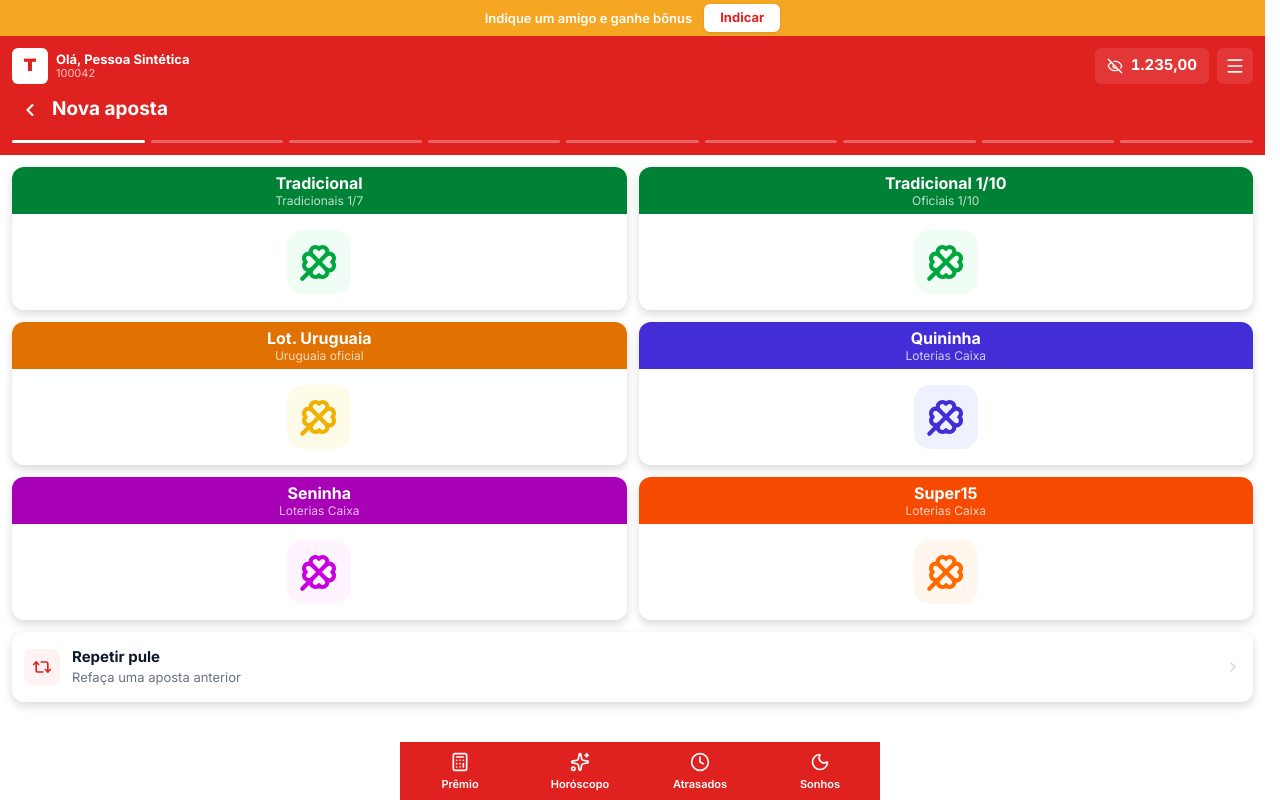
Loterias › voltar e escolher o outro jogo troca resumo e datas
The image size is (1280, 800).
Click the button "Tradicional 1/10 Oficiais 1/10" at point(946, 238), box top-left (638, 166), bottom-right (1253, 310)
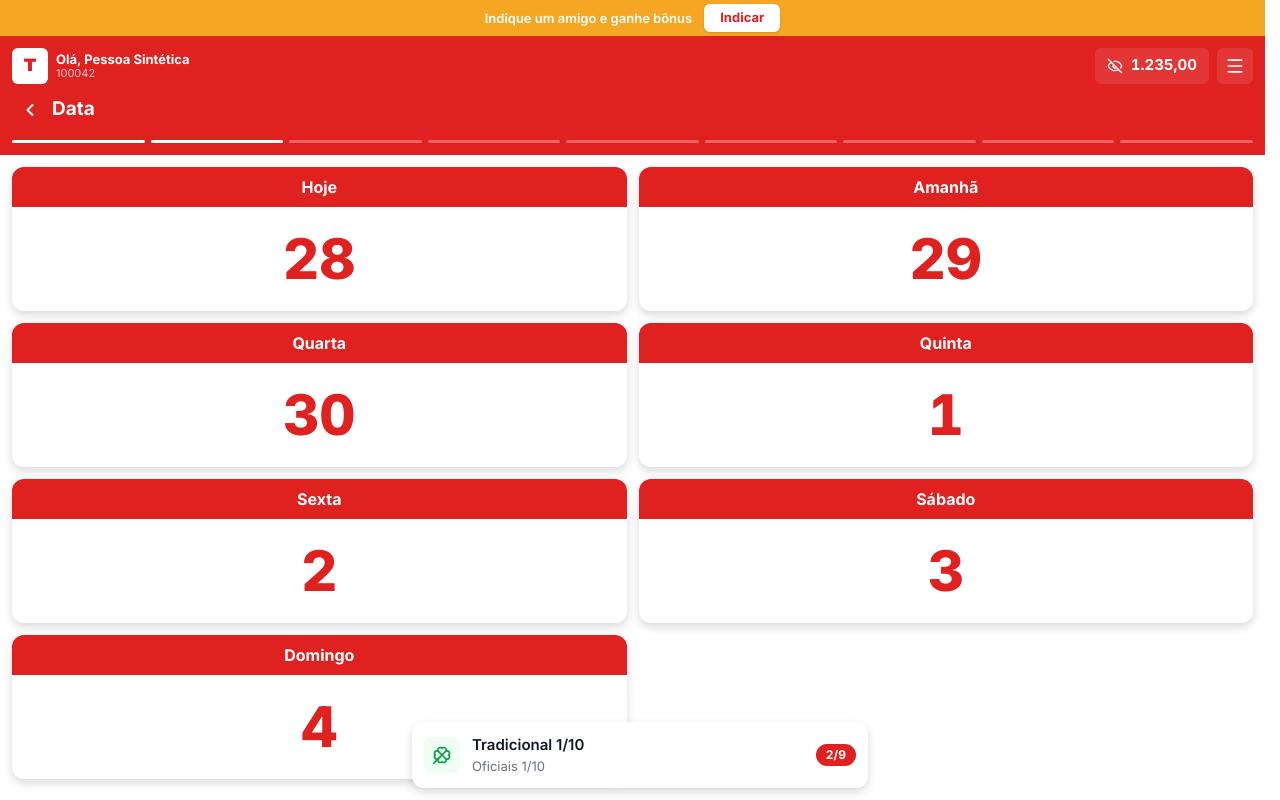
Click the button named "Voltar" at point(30, 110), box top-left (12, 92), bottom-right (48, 128)
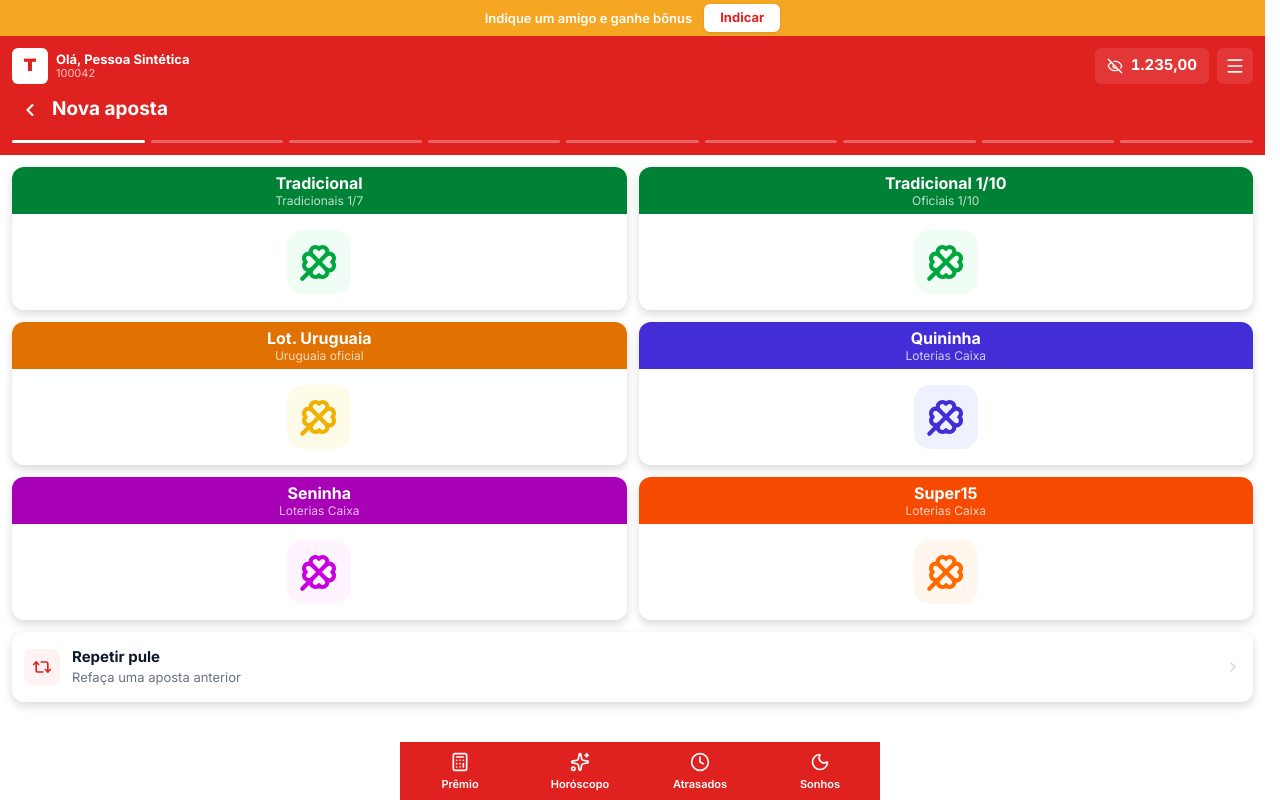
Expected: the heading reads "Nova aposta", top-left (52, 97), bottom-right (168, 120)
Click the button "Tradicional Tradicionais 1/7" at point(319, 238), box top-left (12, 166), bottom-right (626, 310)
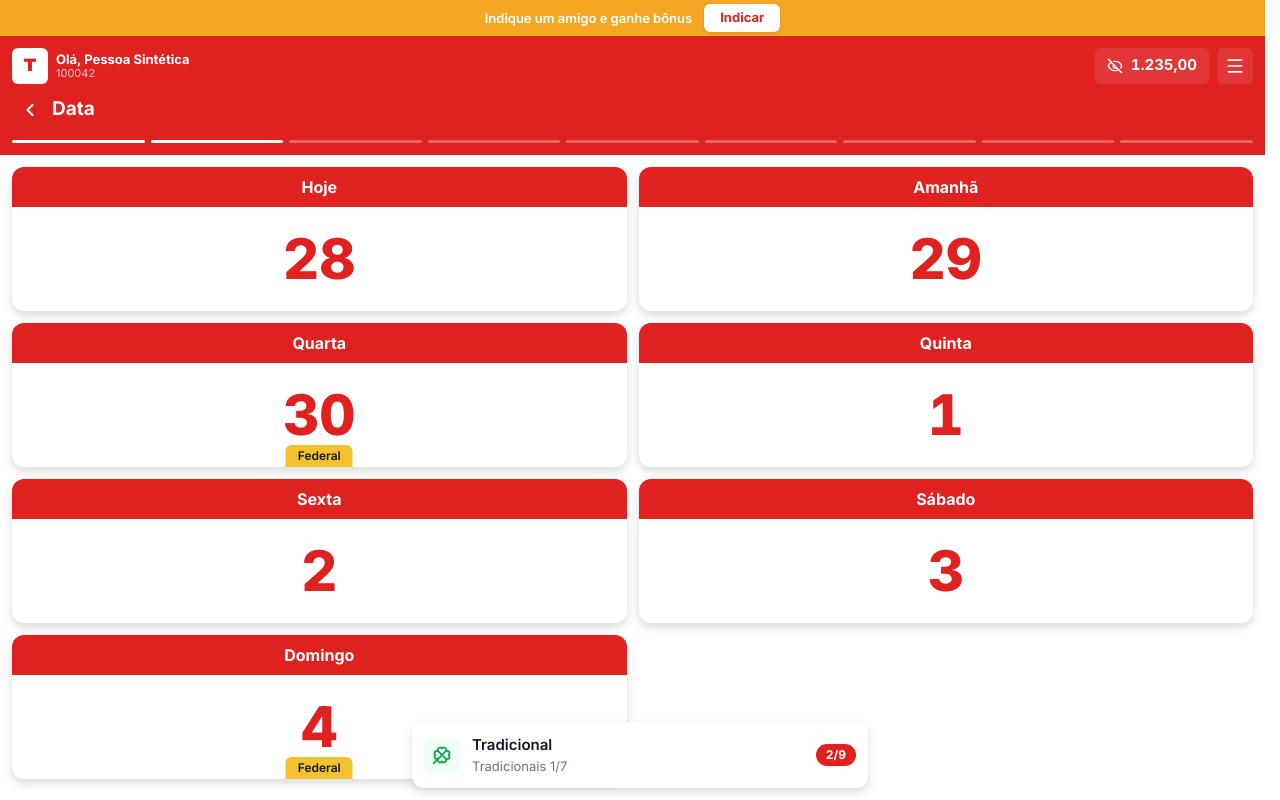
Expected: the text "Tradicionais 1/7" is shown, top-left (472, 758), bottom-right (567, 774)
Expected: the number of buttons named "com Federal" is 2, top-left (12, 322), bottom-right (626, 466); top-left (12, 634), bottom-right (626, 778)
